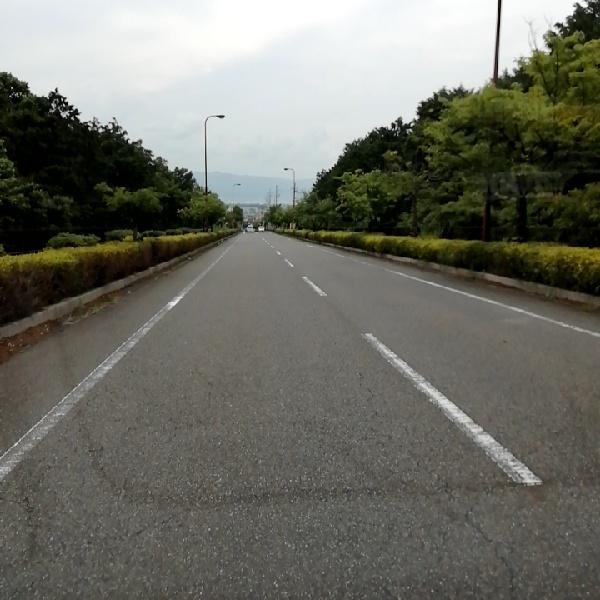D00: (448, 486, 529, 594)
D10: (107, 489, 284, 535)
D20: (16, 345, 165, 505)
